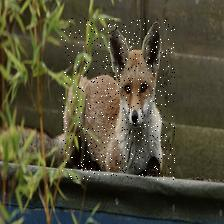fox: (60, 19, 174, 181)
